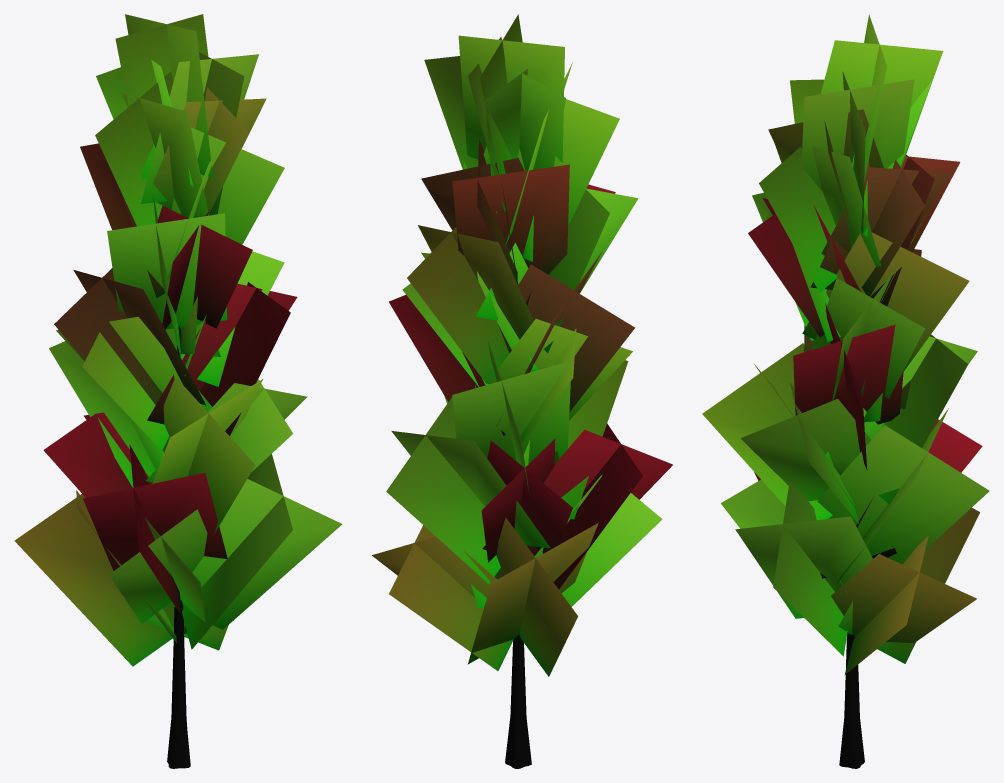
Rendered from S_Tree_11_1.fbx.
3 renders of one model, left to right at view 1: azimuth 30°, elevation 25°; view 2: azimuth 150°, elevation 25°; view 3: azimuth 270°, elevation 25°, orthographic.
Visible parts, largest first — view 1: S_Tree_11_1; view 2: S_Tree_11_1; view 3: S_Tree_11_1.
Part boxes in pixels (left/top/right/bottom): S_Tree_11_1: left=14, top=14, right=342, bottom=768; S_Tree_11_1: left=372, top=14, right=672, bottom=768; S_Tree_11_1: left=702, top=14, right=989, bottom=768.
Bounding box in the file's own units: 927 × 2669 × 957.
